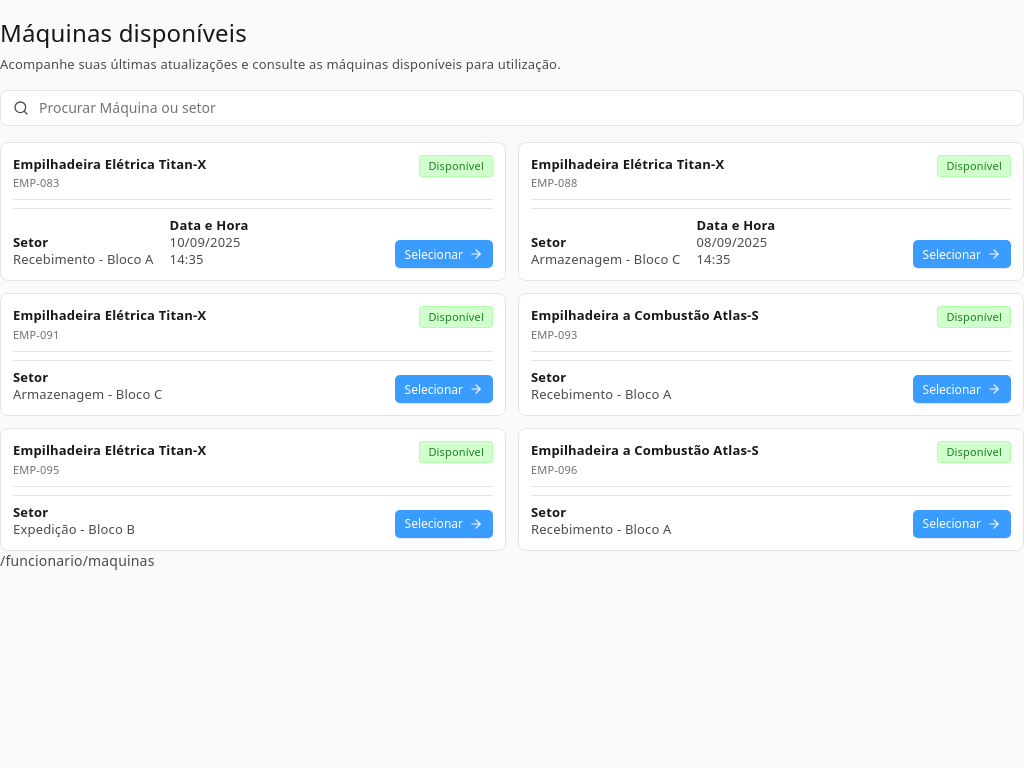
Test: EmployeeMachinesPage › opens the sheet on Selecionar and navigates to the machine route
Click the button "Selecionar" next to "10/09/2025".
click(444, 254)  # box left=394, top=240, right=493, bottom=268
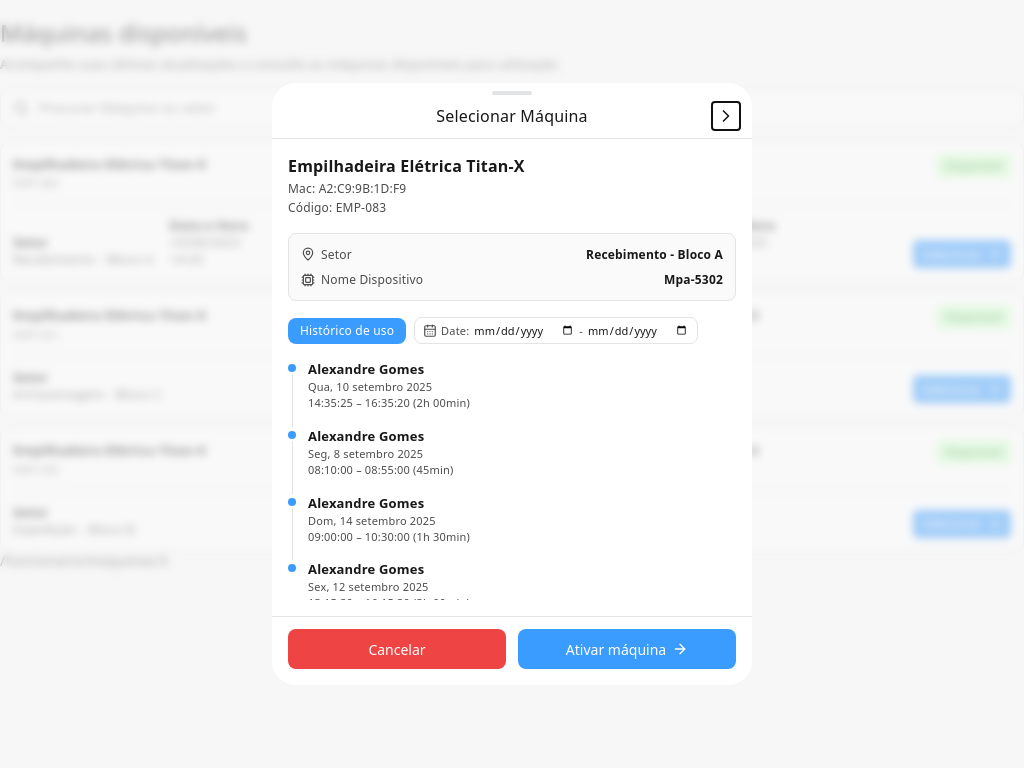
Check: the text with test id "where" reads "/funcionario/maquinas/3", box left=0, top=551, right=168, bottom=570
Check: the dialog "Selecionar Máquina" is shown, box left=272, top=83, right=752, bottom=685
